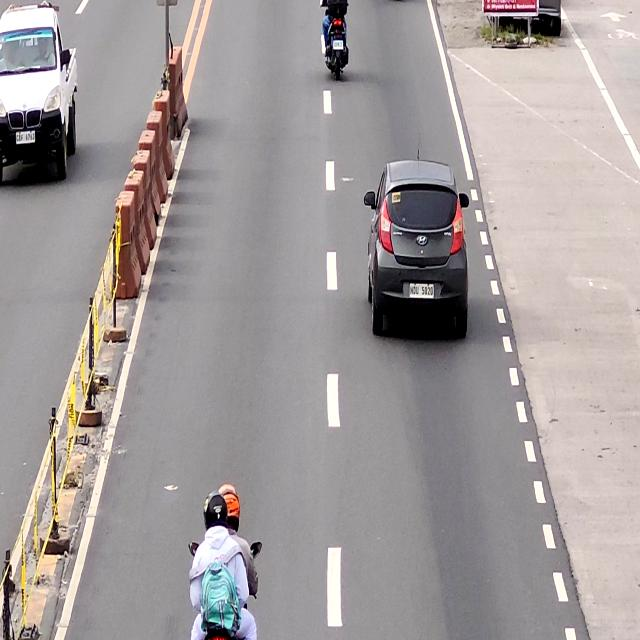Car: (364, 158, 470, 343)
License-Plate: (409, 282, 434, 300), (332, 40, 344, 50)
Motorcycle: (322, 0, 348, 78)
